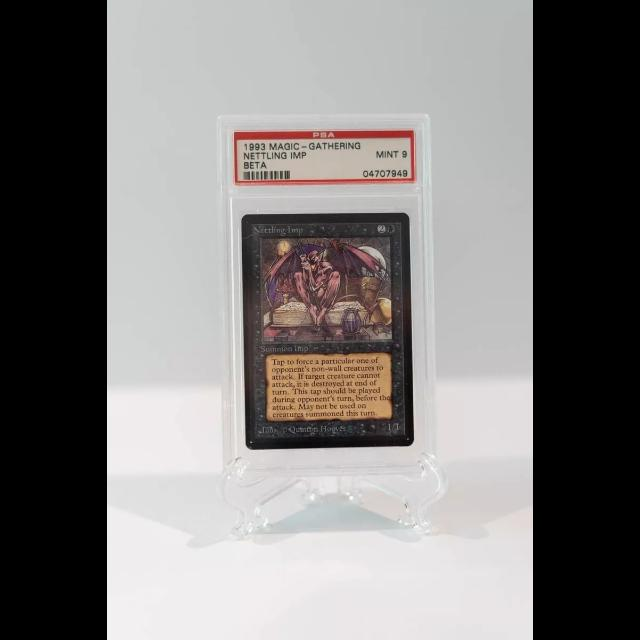card: (240, 212, 415, 451)
psa_label_old: (233, 128, 417, 185)
psa_slab: (217, 111, 436, 476)
